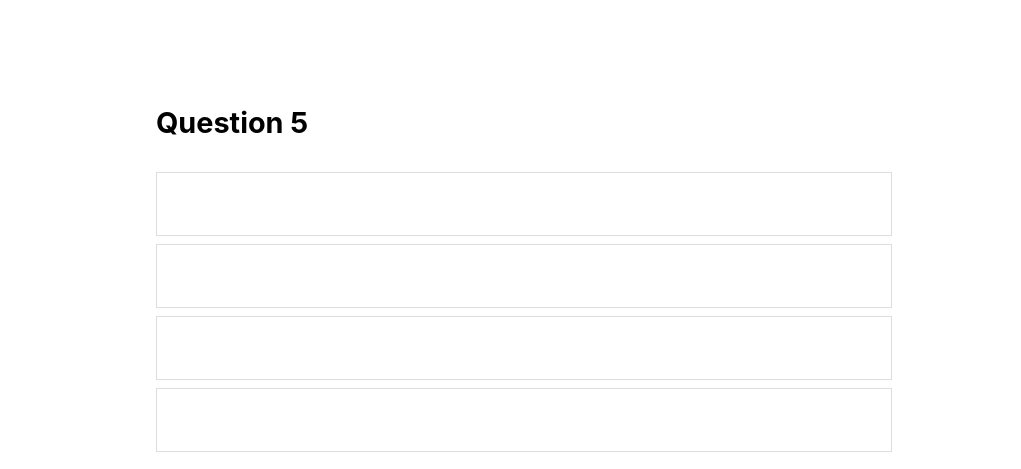
Test: Carousel — interaction › shows score link on last question after correct answer
Click the 1st button: (524, 204) left=156, top=172, right=892, bottom=236
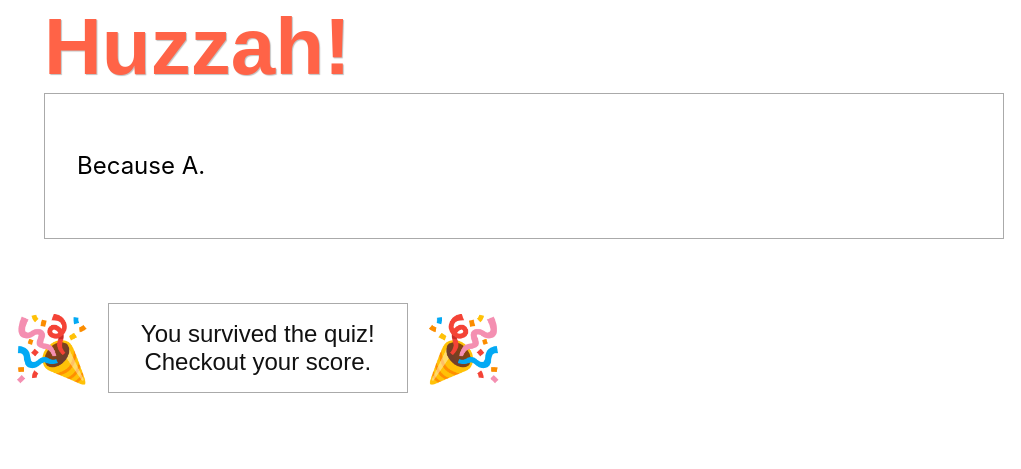
Check: the link "You survived the quiz!Checkout your score." is shown, box left=141, top=320, right=375, bottom=375
